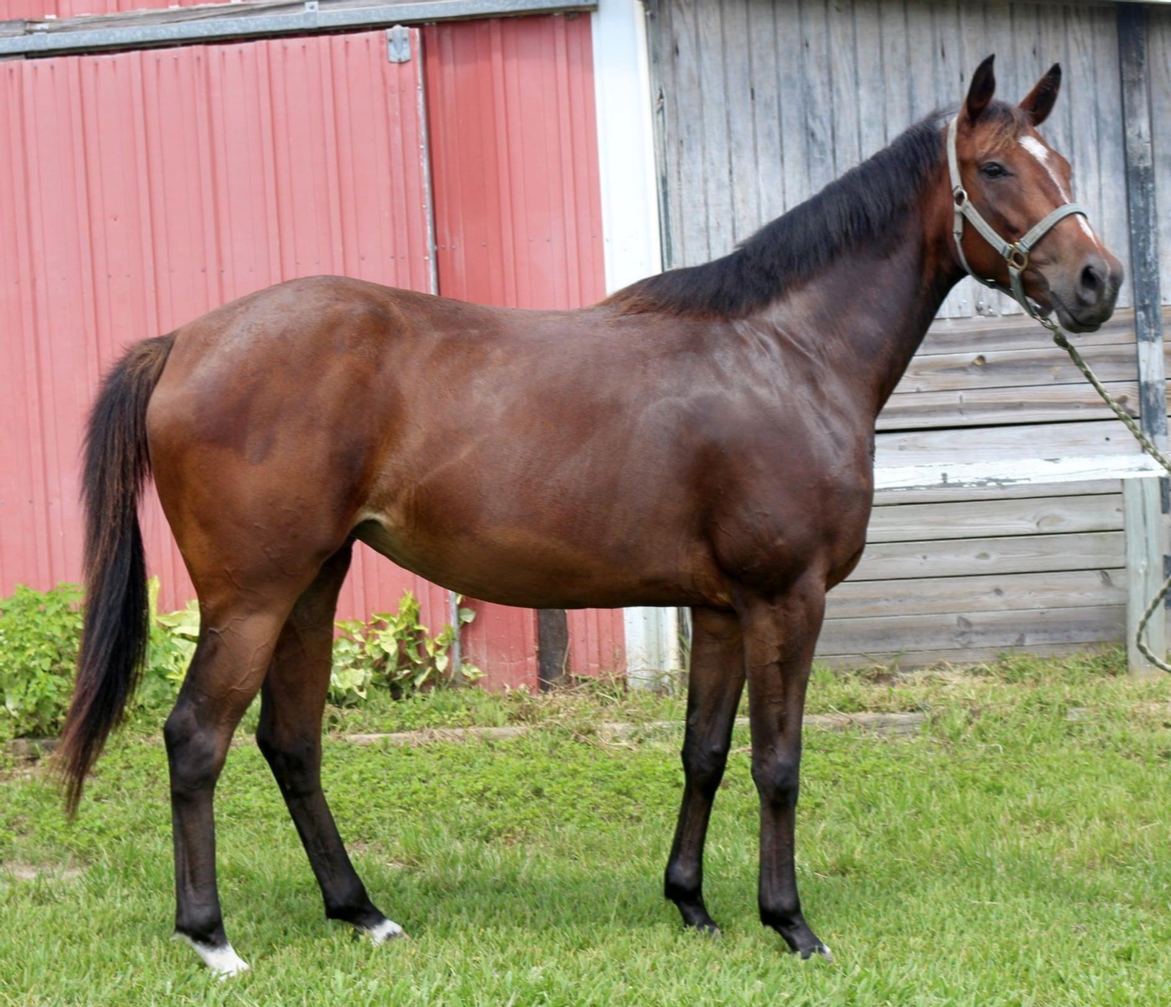horse: (37, 43, 1142, 985)
